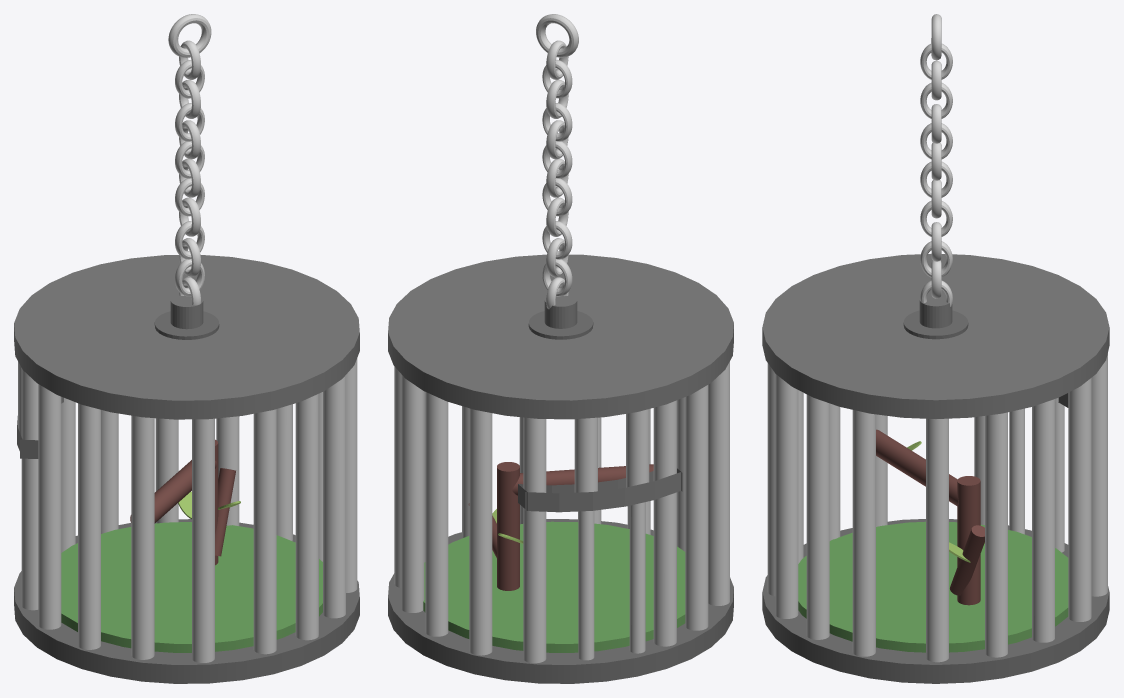
The model's file is tree.fbx.
The picture shows the model from 3 angles, left to right: view 1: azimuth 30°, elevation 25°; view 2: azimuth 150°, elevation 25°; view 3: azimuth 270°, elevation 25°; orthographic projection.
Parts seen in each view (by area): view 1: Cylinder.018, Cylinder.033, Cylinder, Cylinder.006, Cylinder.001, Cylinder.010, Cylinder.004, Cylinder.007, Cylinder.005, Cylinder.009, Cylinder.015, Cylinder.008 (+18 smaller); view 2: Cylinder.018, Cylinder.033, Cylinder, Cylinder.002, Cylinder.013, Cylinder.004, Cylinder.012, Cylinder.005, Cylinder.014, Cylinder.015, Cylinder.019, Cylinder.027 (+23 smaller); view 3: Cylinder.018, Cylinder.033, Cylinder, Cylinder.008, Cylinder.009, Cylinder.010, Cylinder.013, Cylinder.011, Cylinder.003, Cylinder.012, Cylinder.002, Cylinder.027 (+17 smaller).
Boxes of the visible parts, x1,y1,x2,y2 form: Cylinder.018: (14,254,359,419); Cylinder.033: (61,522,322,652); Cylinder: (14,519,359,683); Cylinder.006: (131,415,154,659); Cylinder.001: (253,409,276,654); Cylinder.010: (295,393,318,640); Cylinder.004: (38,384,61,629); Cylinder.007: (192,418,214,662); Cylinder.005: (78,403,100,649); Cylinder.009: (323,375,345,618); Cylinder.015: (21,458,38,610); Cylinder.008: (346,358,357,592); Cylinder.018: (388,254,733,419); Cylinder.033: (423,521,685,652); Cylinder: (388,519,733,683); Cylinder.002: (469,408,492,655); Cylinder.013: (425,392,448,636); Cylinder.004: (685,385,708,630); Cylinder.012: (401,374,424,612); Cylinder.005: (708,361,729,605); Cylinder.014: (523,508,546,663); Cylinder.015: (653,480,676,646); Cylinder.019: (525,472,681,512); Cylinder.027: (497,462,519,590); Cylinder.018: (762,253,1109,418); Cylinder.033: (798,521,1068,652); Cylinder: (762,519,1109,683); Cylinder.008: (852,410,875,656); Cylinder.009: (806,394,829,639); Cylinder.010: (775,374,798,618); Cylinder.013: (1068,378,1091,621); Cylinder.011: (985,412,1007,657); Cylinder.003: (926,418,948,662); Cylinder.012: (1032,399,1054,642); Cylinder.002: (1091,353,1107,596); Cylinder.027: (957,476,980,605).
Size of the model in its own units: 697 by 1320 by 697.
